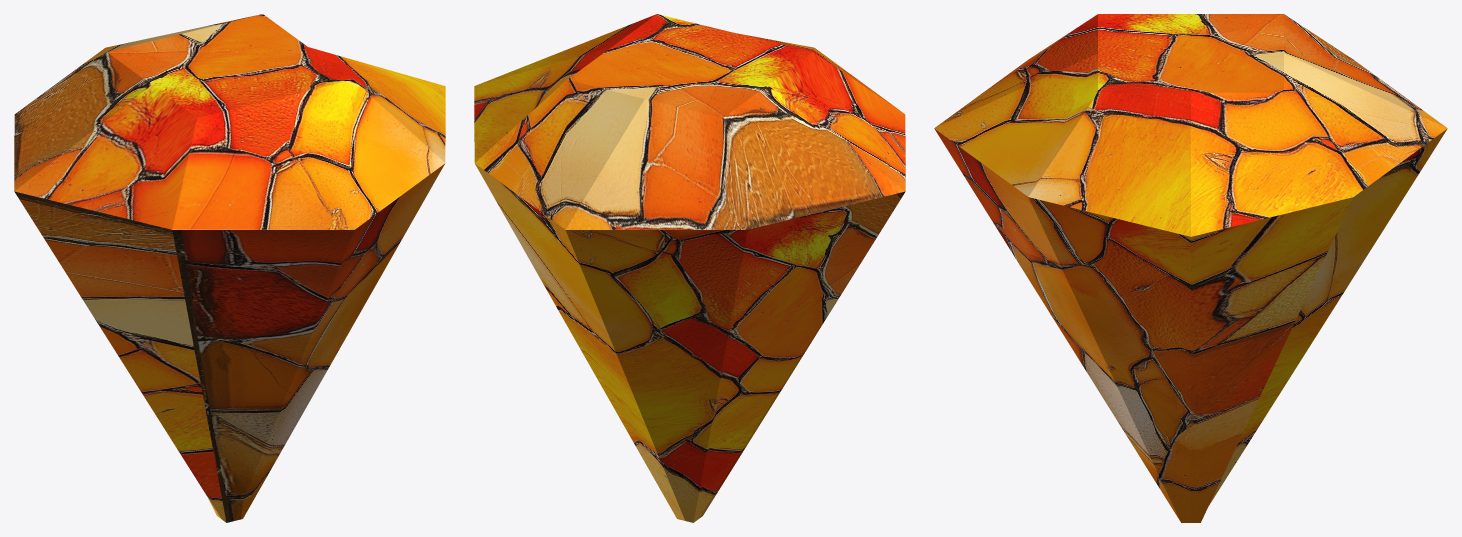
The model's file is gemstone3Orange.glb.
3 views of the same model, side by side, from view 1: azimuth 30°, elevation 25°; view 2: azimuth 150°, elevation 25°; view 3: azimuth 270°, elevation 25° (orthographic). The views are drawn at different scales.
Visible parts, largest first — view 1: gemstone2; view 2: gemstone2; view 3: gemstone2.
Part boxes in pixels (x1,y1,x2,y2): gemstone2: (14,14,445,522); gemstone2: (474,14,905,522); gemstone2: (934,14,1447,522).
Bounding box in the file's own units: 1 × 1 × 1.
1 material, 1 textured.
